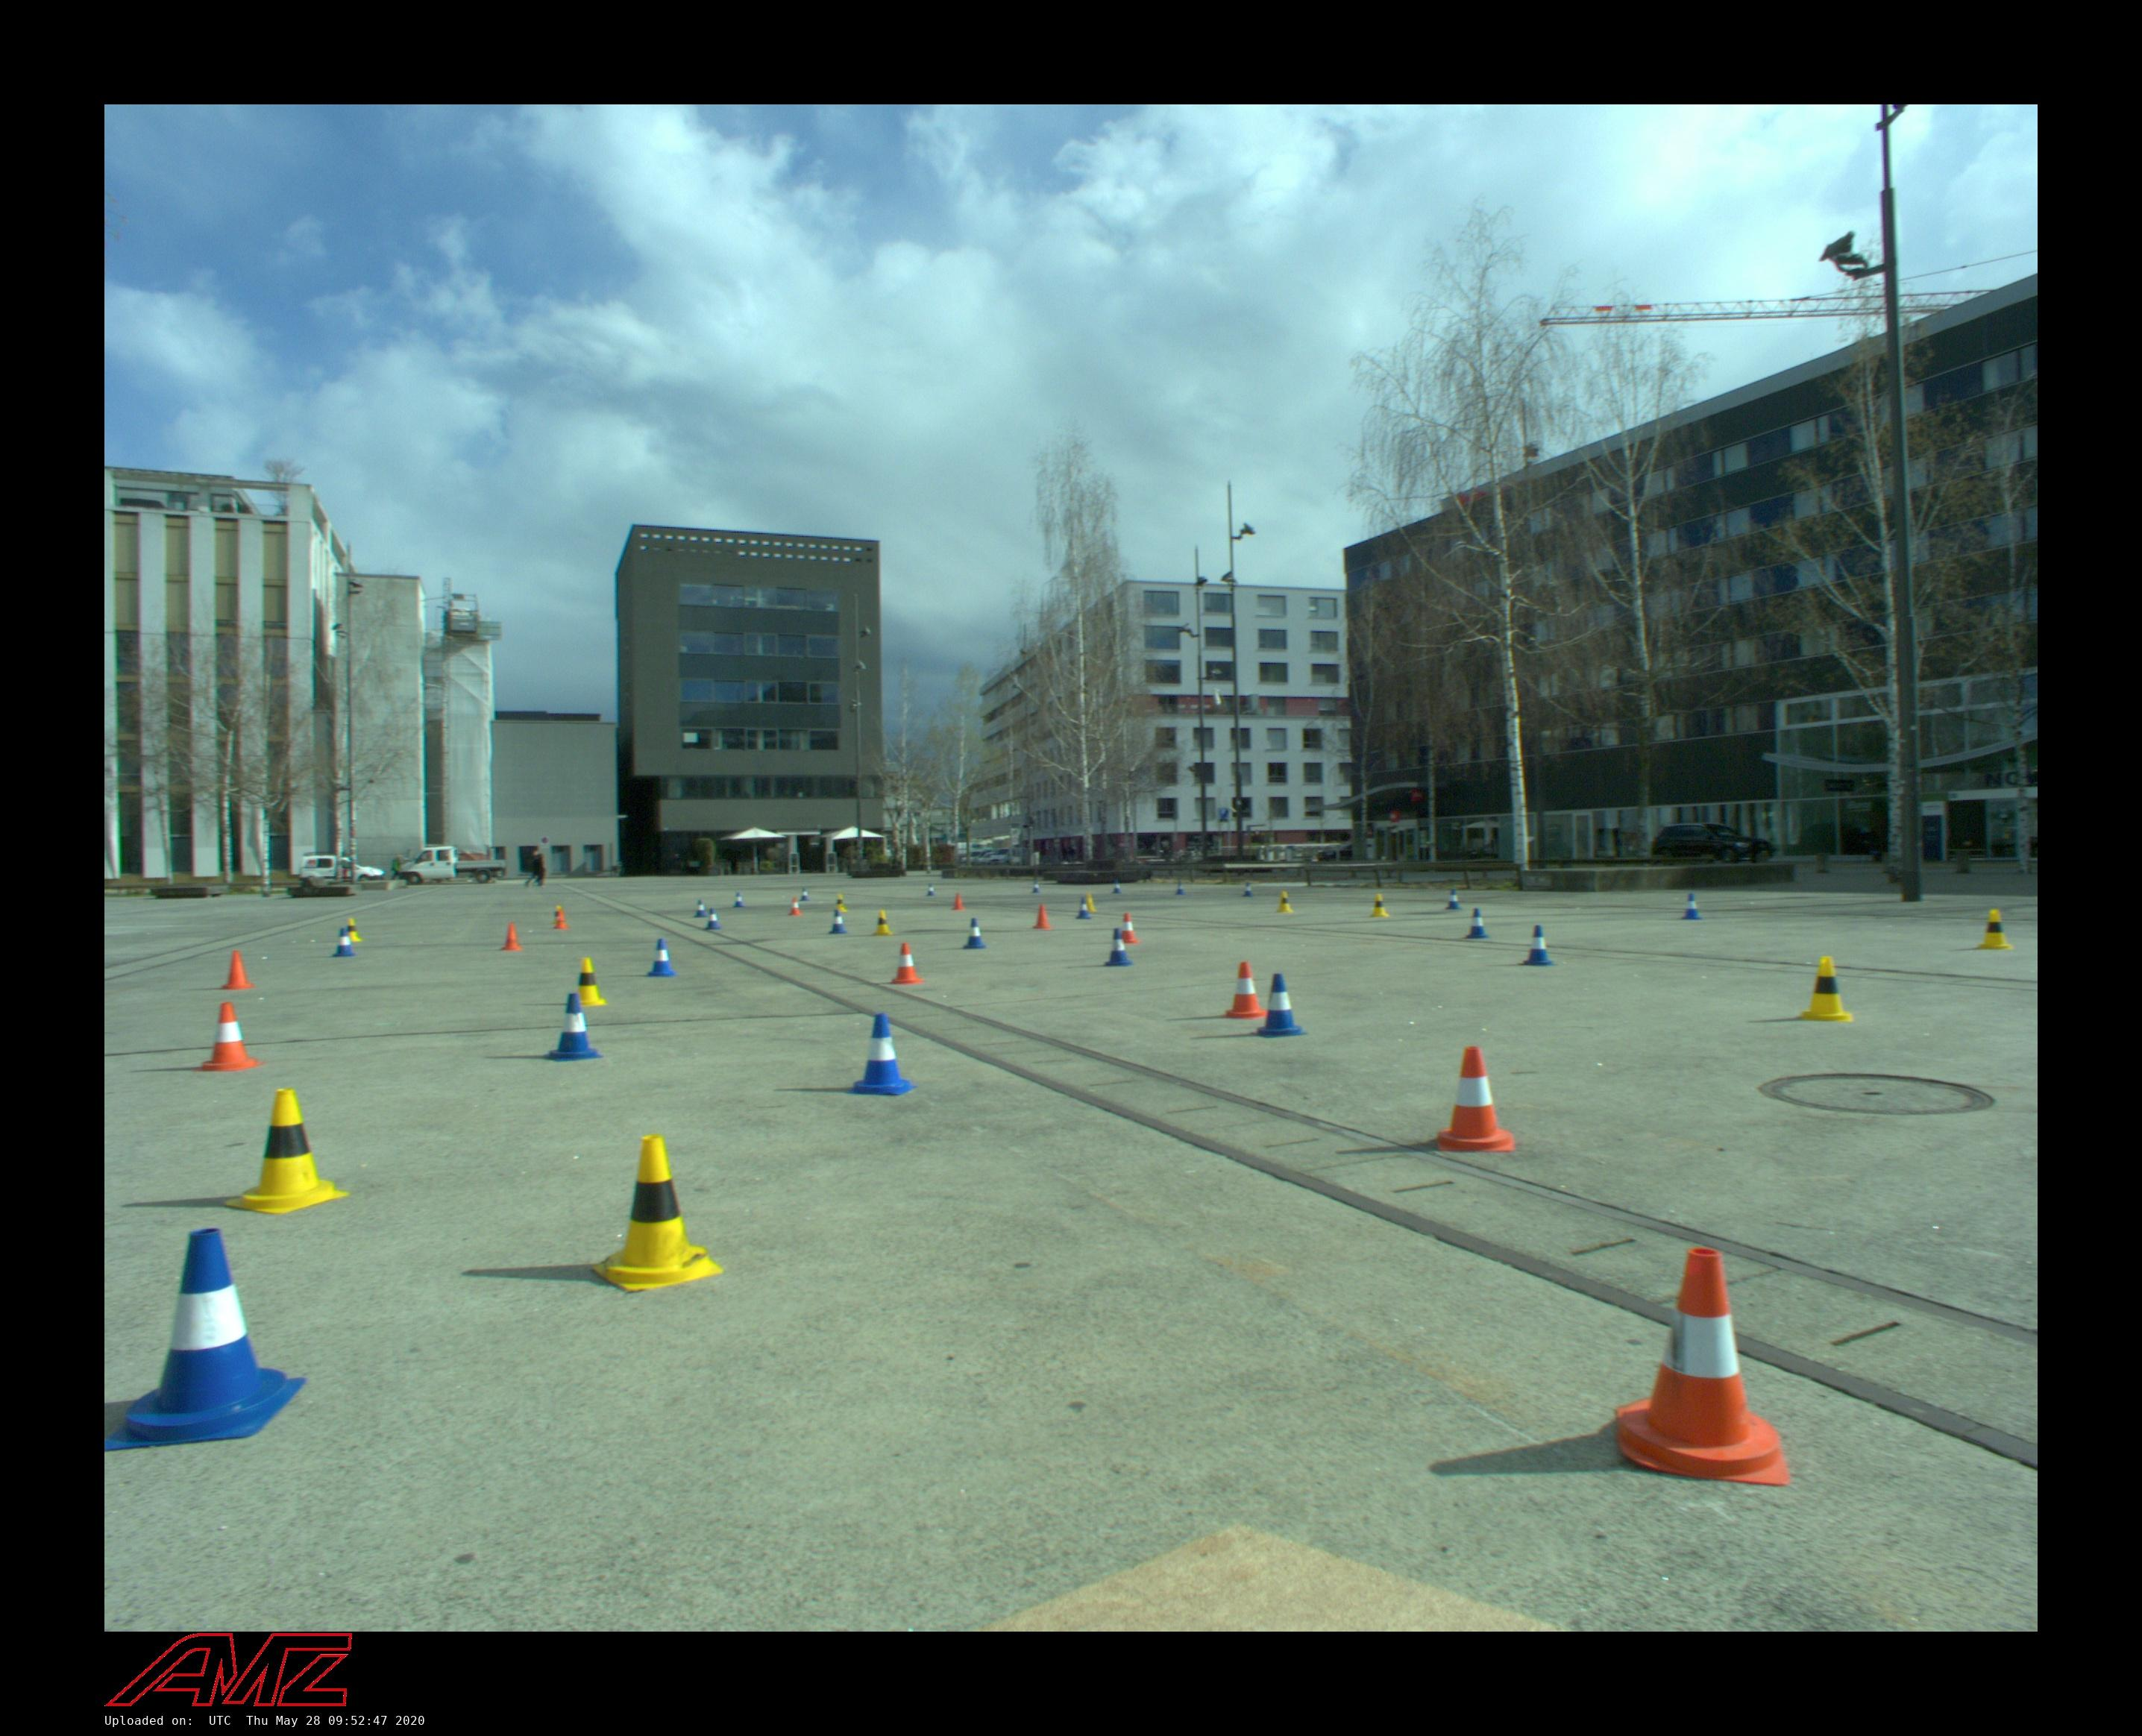blue_cone: (106, 1227, 307, 1452), (846, 1013, 917, 1095), (542, 993, 604, 1061), (1252, 972, 1307, 1038), (1521, 925, 1555, 966), (644, 937, 678, 978), (1103, 928, 1134, 966), (962, 917, 987, 949), (1465, 908, 1490, 939), (331, 928, 357, 957), (1681, 893, 1703, 920), (828, 910, 848, 934), (705, 908, 723, 930), (1075, 898, 1092, 919), (1446, 889, 1461, 910), (694, 899, 708, 918), (732, 892, 747, 908), (1243, 882, 1254, 897), (800, 887, 811, 901), (1112, 879, 1122, 893), (1175, 881, 1185, 896), (1031, 881, 1041, 893), (927, 884, 936, 896)
orange_cone: (1614, 1246, 1791, 1486), (1435, 1045, 1518, 1151), (193, 1001, 266, 1072), (1221, 960, 1271, 1019), (219, 950, 257, 990), (890, 942, 923, 984), (1115, 913, 1141, 943), (500, 922, 524, 951), (1033, 904, 1052, 930), (553, 909, 570, 929), (788, 897, 803, 916), (952, 893, 965, 911)
yellow_cone: (591, 1135, 726, 1292), (224, 1088, 351, 1213), (1794, 955, 1854, 1022), (565, 957, 609, 1007), (1977, 909, 2014, 950), (872, 909, 893, 936), (342, 918, 364, 942), (1370, 893, 1390, 917), (1276, 891, 1295, 913), (552, 905, 569, 925), (833, 893, 849, 913), (1082, 893, 1098, 912)
